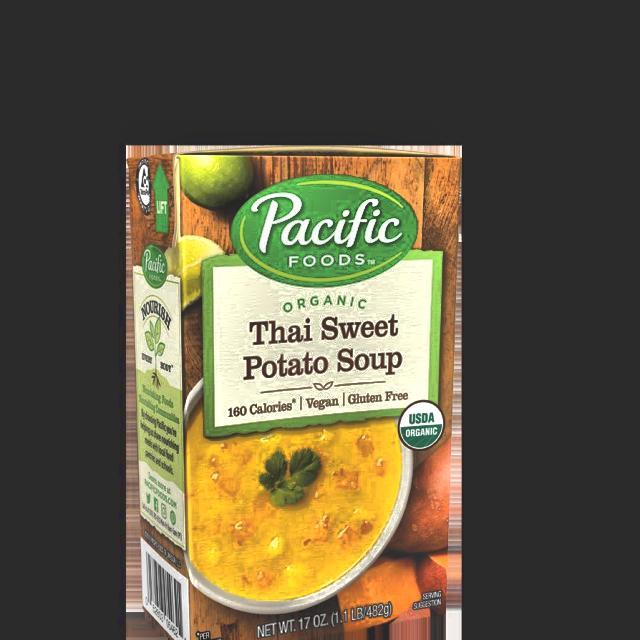cardboard: (125, 145, 462, 640)
